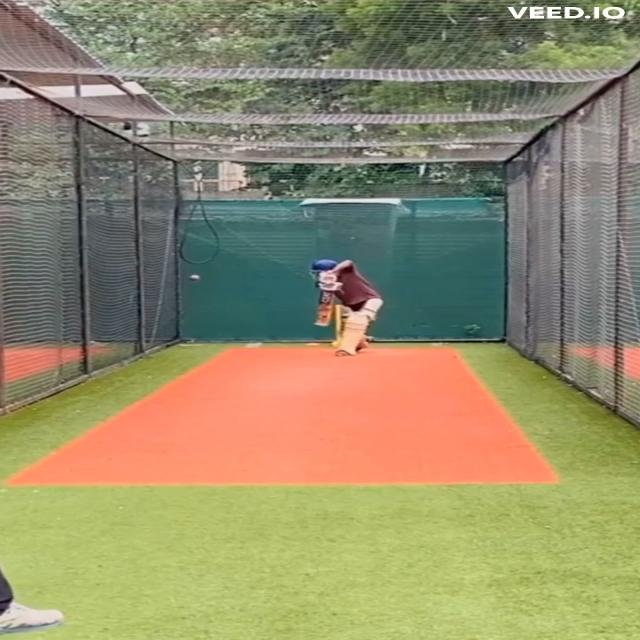ball: (186, 273, 204, 283)
